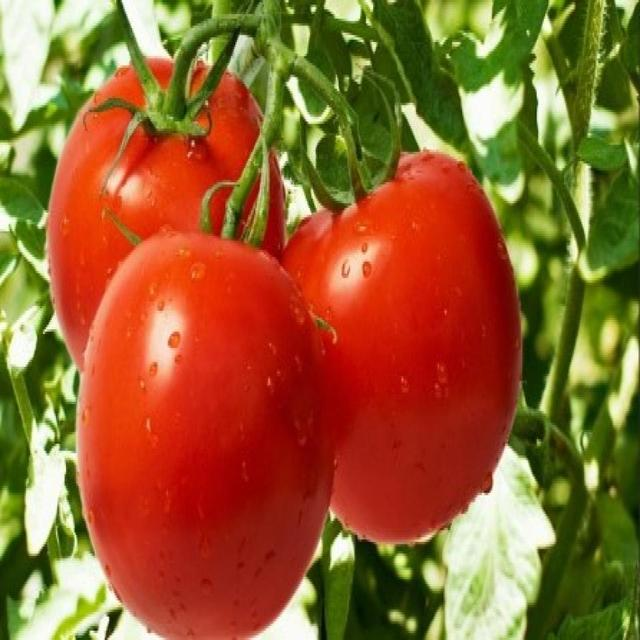Healthy Fruit: (114, 132, 270, 298)
